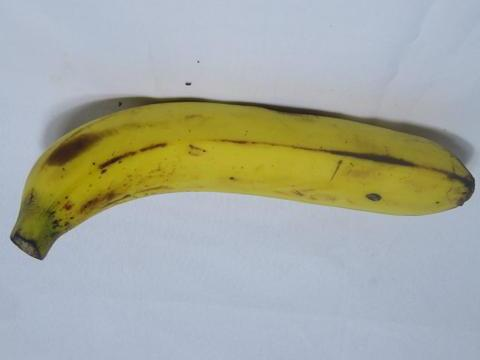ripe: (11, 85, 479, 265)
